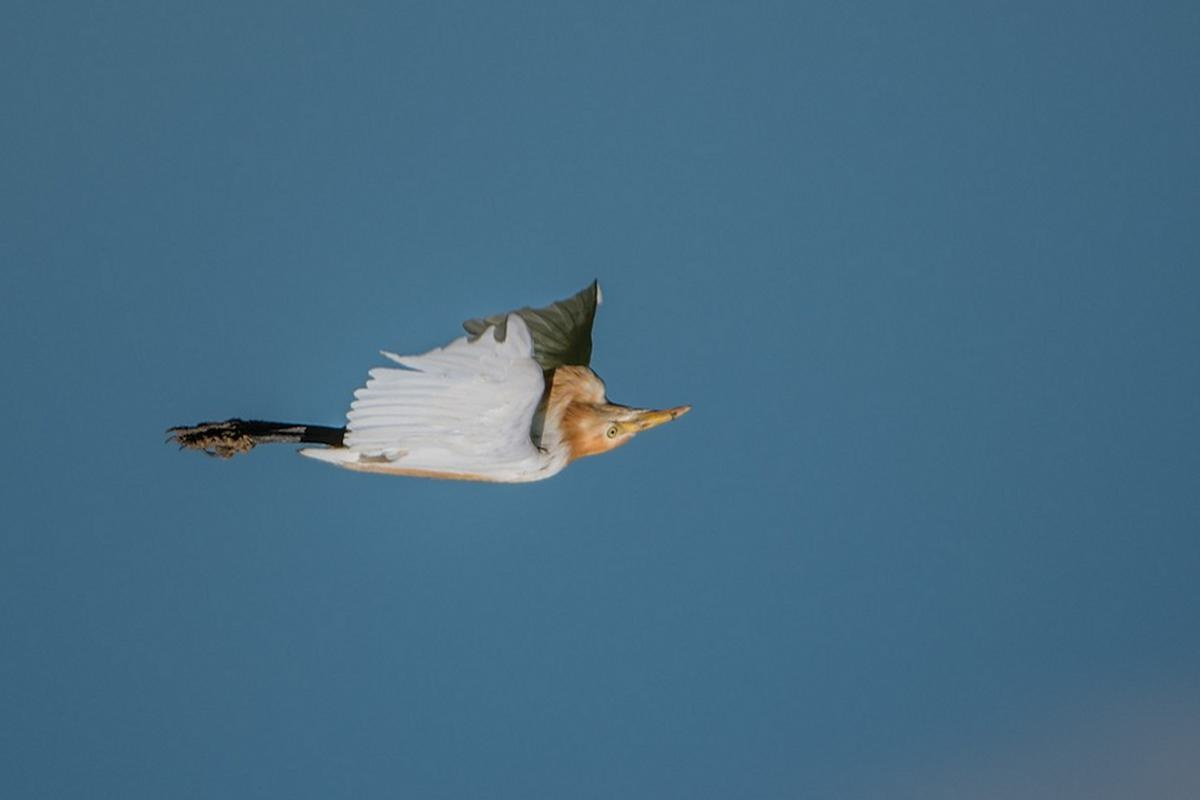egret: (238, 304, 710, 492)
